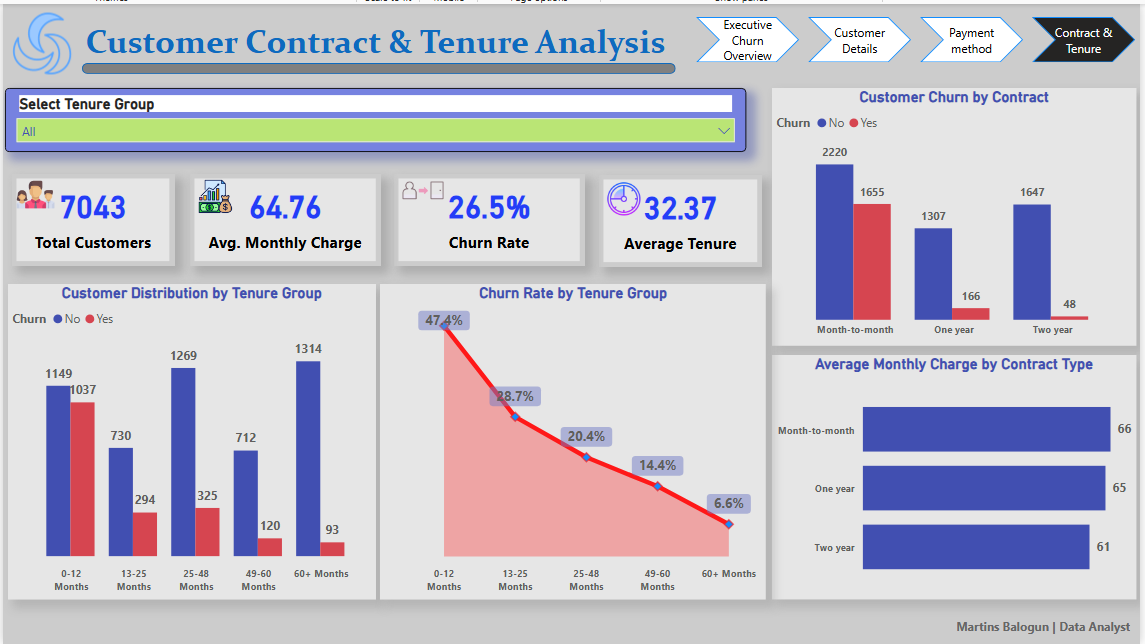

This screenshot's page, from the dashboard's own definition file:
{"tool":"powerbi","page":{"name":"Contract & Tenure","canvas":[1280,720],"ordinal":3},"visuals":[{"type":"textbox","box":[87.6,14.8,692.5,64.2],"z":0},{"type":"image","box":[0,3.7,87.8,82.1],"z":1000},{"type":"shape","box":[88.9,66.7,667.8,12.3],"z":2000},{"type":"slicer","fields":{"Values":["Fact Customer Churn.Tenure Group"]},"box":[2.5,95,834.4,71.6],"z":3000},{"type":"cardVisual","fields":{"Data":["Measures Table.Total Customers"]},"box":[10.4,191.5,182.9,103.6],"z":4000},{"type":"cardVisual","fields":{"Data":["Measures Table.Churn Rate"]},"box":[439.9,191.2,214.9,103.5],"z":5000},{"type":"cardVisual","fields":{"Data":["Measures Table.Average Monthly Charge"]},"box":[209.8,191.3,214.8,103.7],"z":6000},{"type":"cardVisual","fields":{"Data":["Measures Table.Average Tenure"]},"box":[670.5,192.4,183.4,103.5],"z":7000},{"type":"clusteredColumnChart","title":"Customer Churn by Contract ","fields":{"Category":["Fact Customer Churn.Contract"],"Y":["Measures Table.Total Customers"],"Series":["Fact Customer Churn.Churn"]},"box":[865.3,95,409.8,290.1],"z":8000},{"type":"clusteredColumnChart","title":"Customer Distribution by Tenure Group","fields":{"Category":["Fact Customer Churn.Tenure Group"],"Y":["Measures Table.Total Customers"],"Series":["Fact Customer Churn.Churn"]},"box":[6.2,314.8,413.5,355.5],"z":9000},{"type":"clusteredBarChart","title":"Average Monthly Charge by Contract Type","fields":{"Category":["Fact Customer Churn.Contract"],"Y":["Measures Table.Average Monthly Charge"]},"box":[865.3,395,409.8,275.3],"z":10000},{"type":"areaChart","title":"Churn Rate by Tenure Group","fields":{"Category":["Fact Customer Churn.Tenure Group"],"Y":["Measures Table.Churn Rate"]},"box":[424.6,314.8,434.5,355.5],"z":11000},{"type":"textbox","title":"Label","box":[973.9,686.3,298.7,33.3],"z":12000},{"type":"pageNavigator","box":[780.1,14.8,495,51.8],"z":13000},{"type":"image","box":[432,176.6,81,66.4],"z":14000},{"type":"image","box":[187.9,192.4,102.4,48.4],"z":15000},{"type":"image","box":[10.1,187.9,52.9,52.9],"z":16000},{"type":"image","box":[670.5,191.2,56.2,56.2],"z":17000}]}

Visuals, with their boxes in screenshot pixels (x1, y1, x2, y2), scaled from the page's 1280x720 canvas onto the 1145x644 screenshot:
textbox: x1=78 y1=13 x2=698 y2=71
image: x1=0 y1=3 x2=79 y2=77
shape: x1=80 y1=60 x2=677 y2=71
slicer - Fact Customer Churn.Tenure Group: x1=2 y1=85 x2=749 y2=149
cardVisual - Measures Table.Total Customers: x1=9 y1=171 x2=173 y2=264
cardVisual - Measures Table.Churn Rate: x1=394 y1=171 x2=586 y2=264
cardVisual - Measures Table.Average Monthly Charge: x1=188 y1=171 x2=380 y2=264
cardVisual - Measures Table.Average Tenure: x1=600 y1=172 x2=764 y2=265
"Customer Churn by Contract " clusteredColumnChart: x1=774 y1=85 x2=1141 y2=344
"Customer Distribution by Tenure Group" clusteredColumnChart: x1=6 y1=282 x2=375 y2=600
"Average Monthly Charge by Contract Type" clusteredBarChart: x1=774 y1=353 x2=1141 y2=600
"Churn Rate by Tenure Group" areaChart: x1=380 y1=282 x2=768 y2=600
"Label" textbox: x1=871 y1=614 x2=1138 y2=643
pageNavigator: x1=698 y1=13 x2=1141 y2=60
image: x1=386 y1=158 x2=459 y2=217
image: x1=168 y1=172 x2=260 y2=215
image: x1=9 y1=168 x2=56 y2=215
image: x1=600 y1=171 x2=650 y2=221
